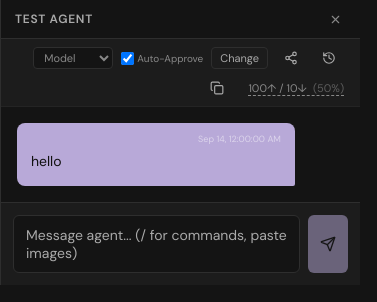
AgentPanel context-first token meter › shows auto-compact off when the threshold is zero
Click the text "100↑ / 10↓(50%)": point(296, 88) [248, 81, 344, 96]
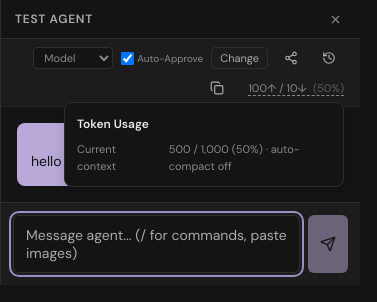
Expected: the text "500 / 1,000 (50%) · auto-compact off" is shown, [169, 142, 300, 172]
